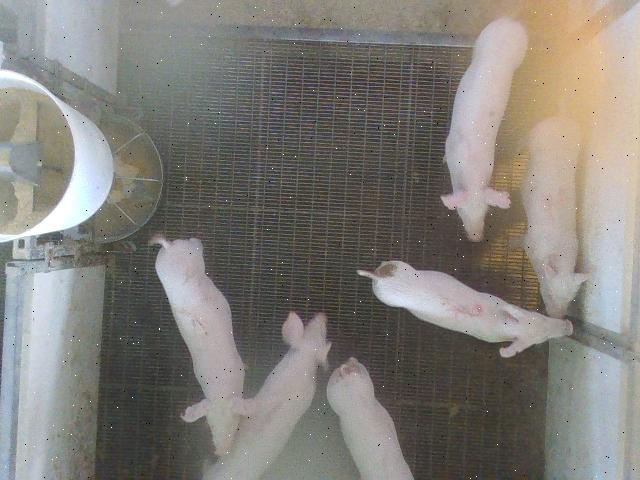pig-3: (204, 312, 330, 480)
pig-4: (522, 117, 590, 318)
pig-5: (358, 261, 572, 358)
